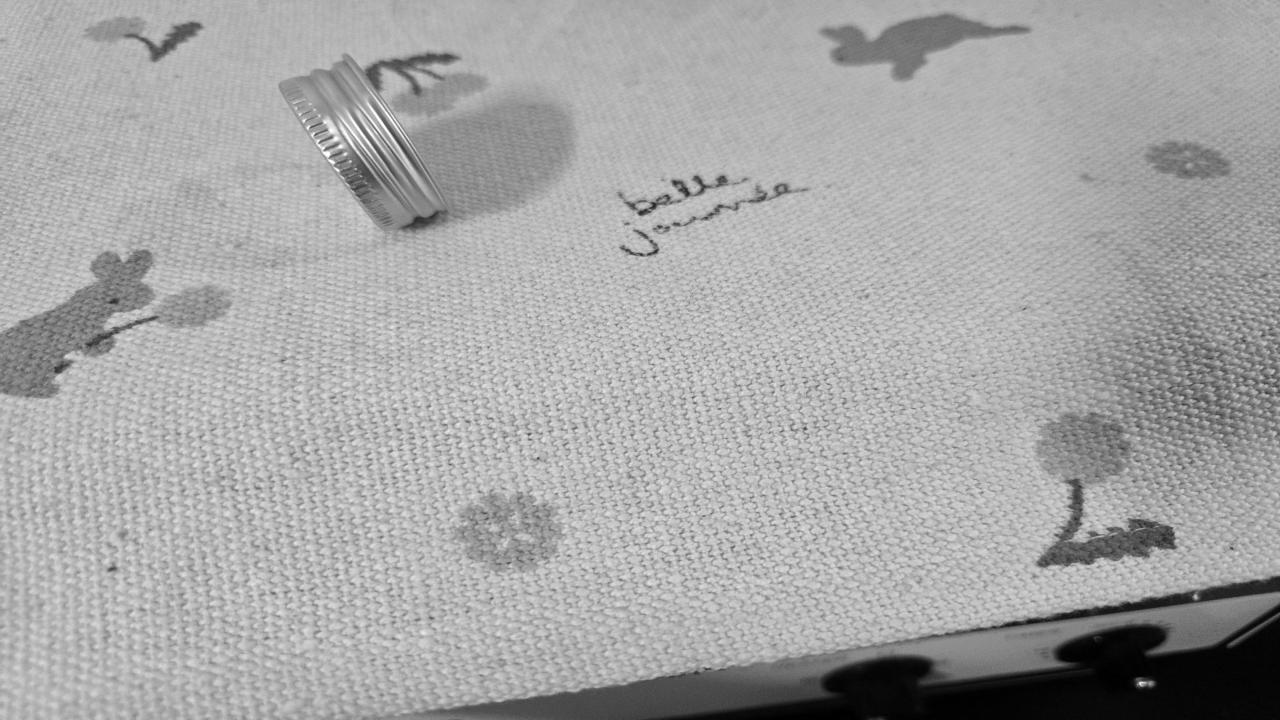bottle_cap: (282, 60, 444, 232)
